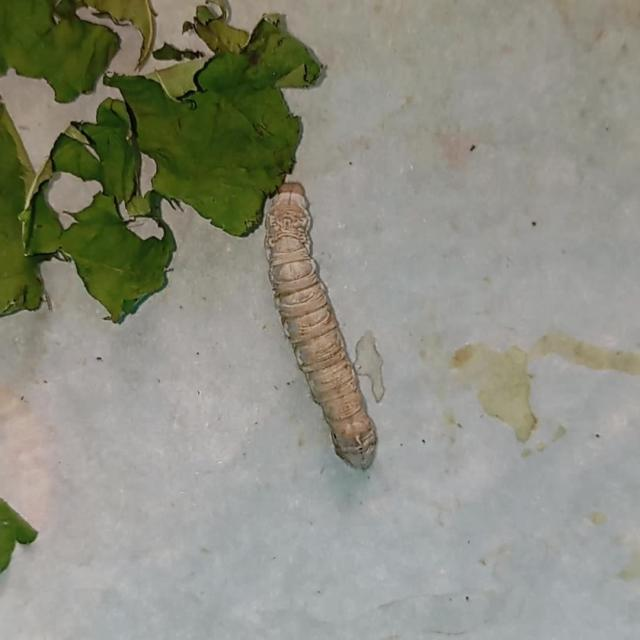Grasserie: (225, 162, 422, 492)
